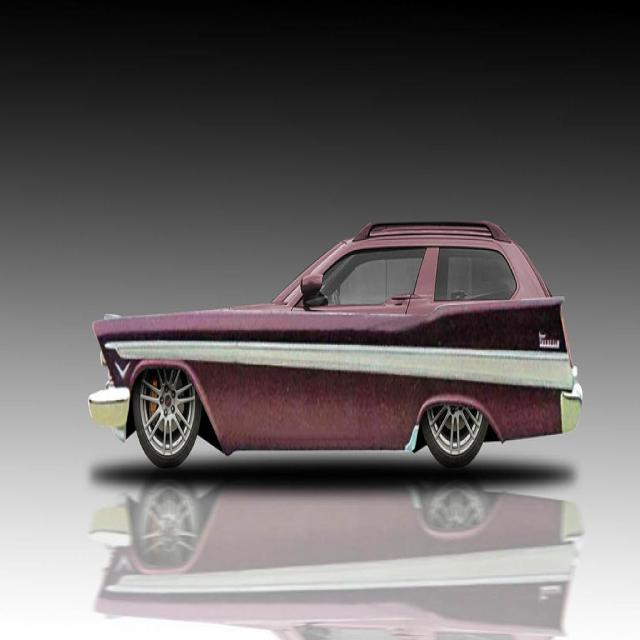car: (75, 204, 582, 494)
